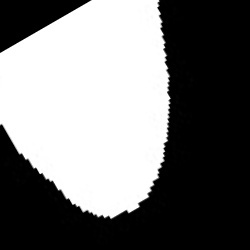spot: (2, 1, 171, 219)
